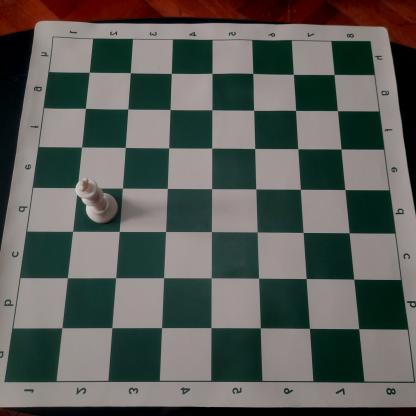white-king: (74, 175, 121, 225)
